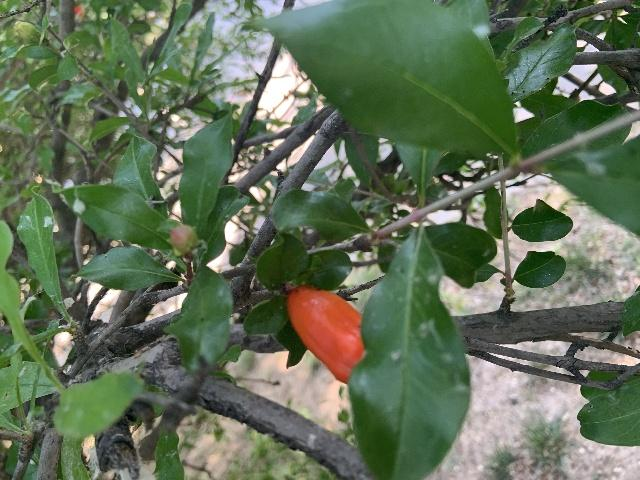bud: (286, 284, 364, 384), (170, 224, 199, 253)
